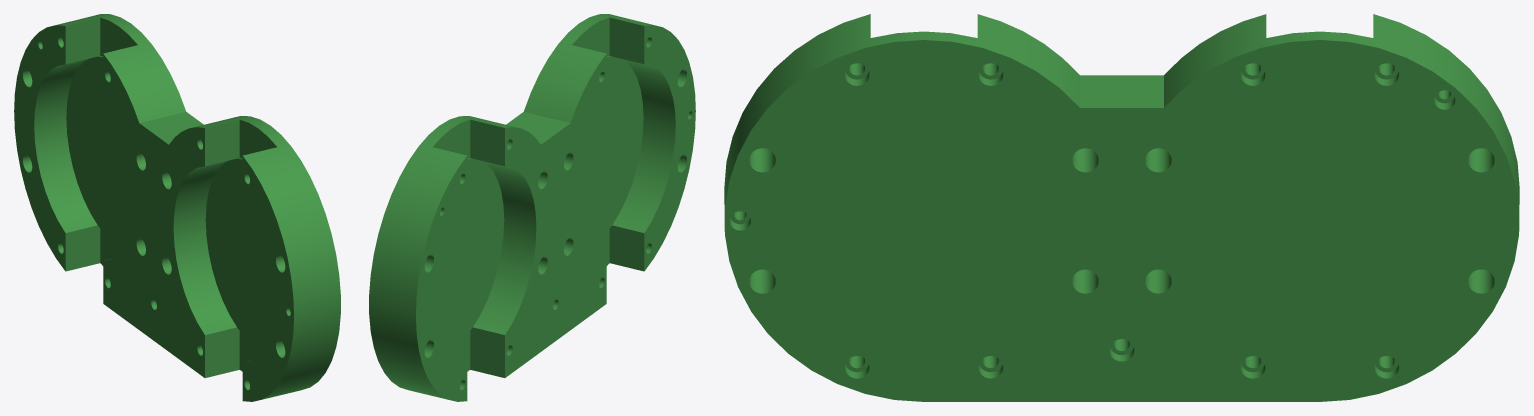
The model's file is ThighMountMaleLeft.dae.
3 views of the same model, side by side, from view 1: azimuth 30°, elevation 25°; view 2: azimuth 150°, elevation 25°; view 3: azimuth 270°, elevation 25° (orthographic). The views are drawn at different scales.
Visible parts, largest first — view 1: ThighMountMaleLeft; view 2: ThighMountMaleLeft; view 3: ThighMountMaleLeft.
Part boxes in pixels (box(x1,y1,x2,y2)): ThighMountMaleLeft: box(14, 14, 340, 401); ThighMountMaleLeft: box(369, 14, 695, 401); ThighMountMaleLeft: box(724, 14, 1519, 401).
Bounding box in the file's own units: 0.0216 × 0.223 × 0.112.
